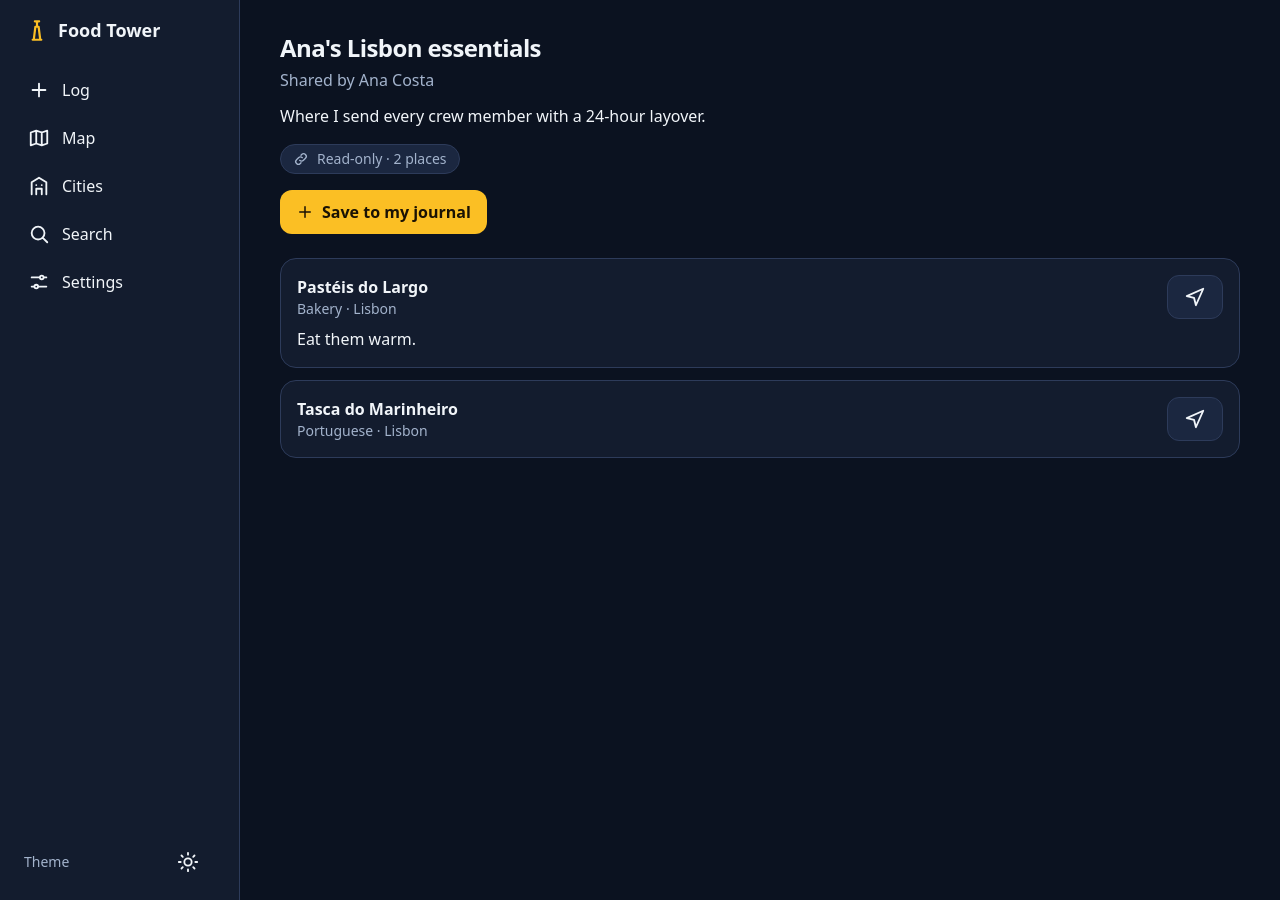
Test: Shared list › shows the error if saving fails and keeps the button
Click the button "Save to my journal" at (383,212), box [280,190,487,234]
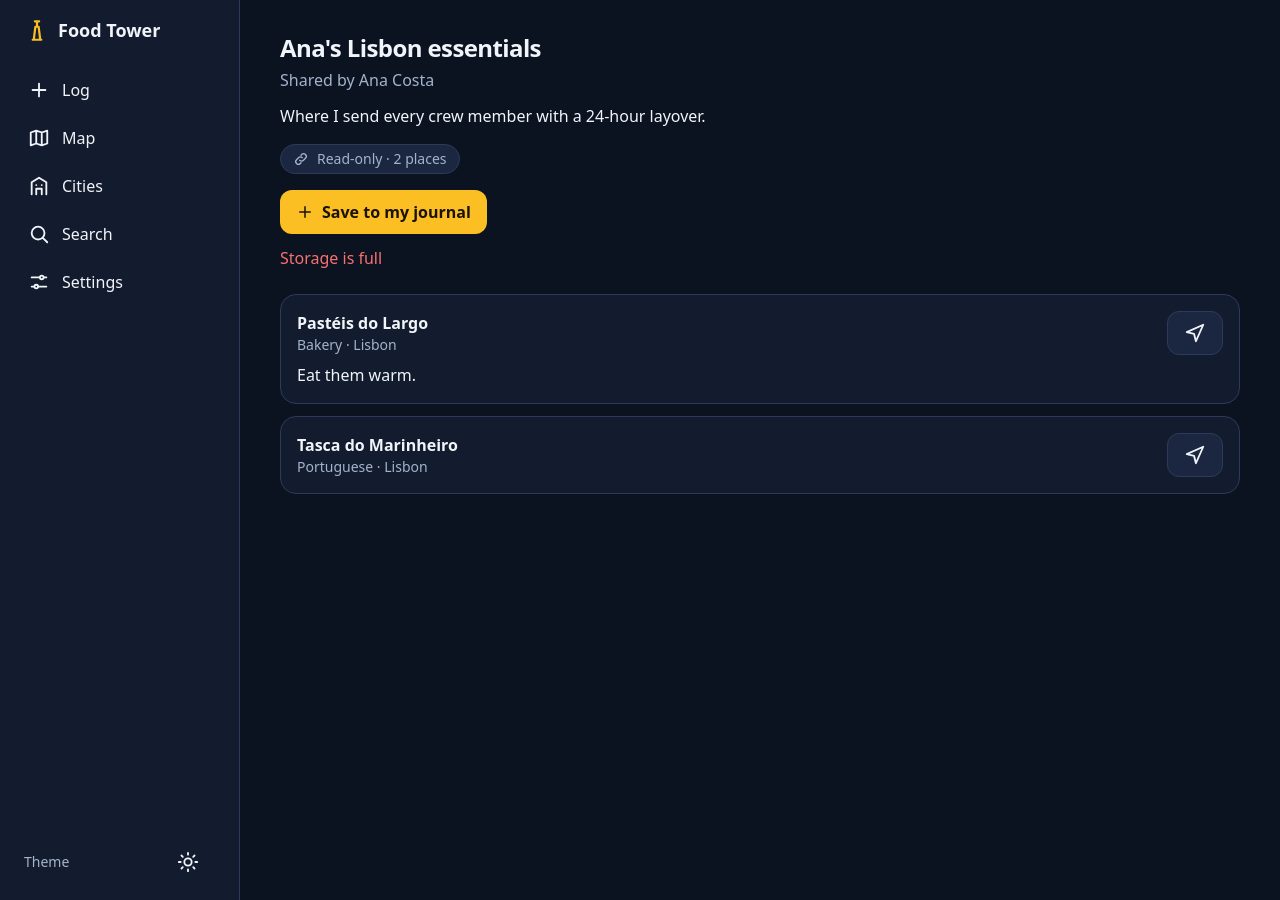
expect the message reads "Storage is full": met, box [280,247,382,269]
